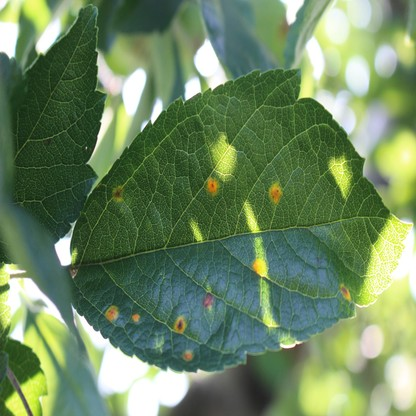rust: (268, 183, 282, 203), (105, 305, 119, 321), (252, 259, 266, 275), (112, 186, 124, 203), (340, 283, 351, 300), (175, 317, 186, 333), (207, 178, 218, 193), (203, 293, 213, 308), (182, 349, 194, 361), (132, 314, 141, 322)
